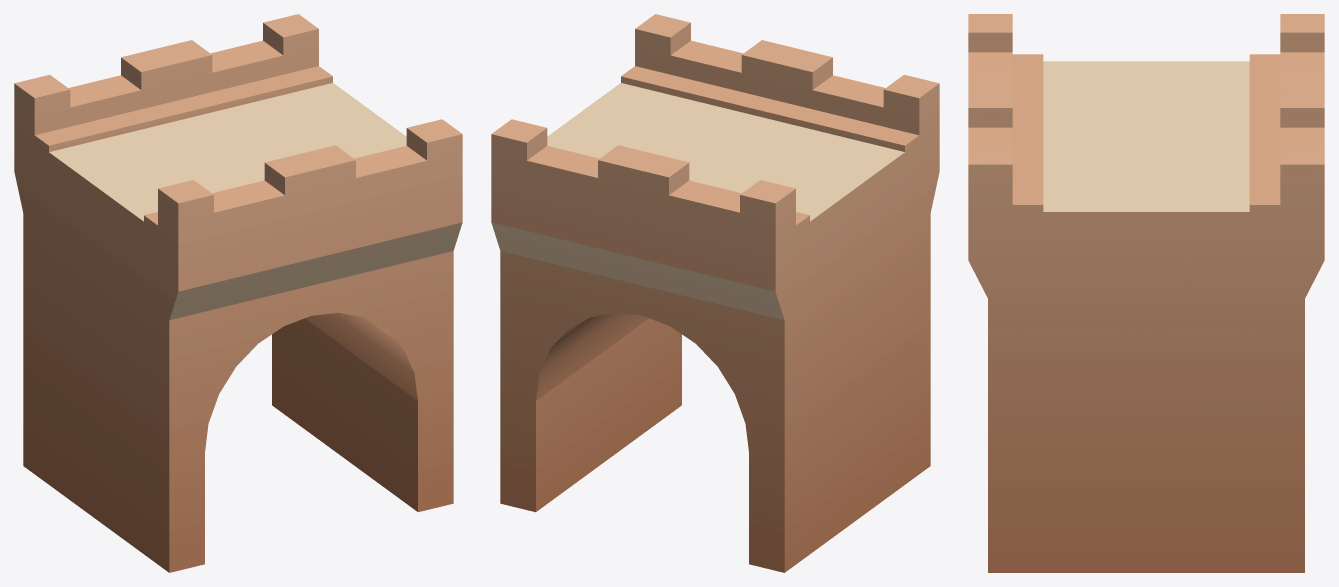
File: bridge-straight.glb
The picture shows the model from 3 angles, left to right: view 1: azimuth 30°, elevation 25°; view 2: azimuth 150°, elevation 25°; view 3: azimuth 270°, elevation 25°; orthographic projection. The views are drawn at different scales.
Parts seen in each view (by area): view 1: bridge-straight; view 2: bridge-straight; view 3: bridge-straight.
Part boxes in pixels (<box>): bridge-straight: <box>14,14,462,572</box>; bridge-straight: <box>491,14,939,572</box>; bridge-straight: <box>968,14,1324,572</box>.
Size of the model in its own units: 0.93 by 1.18 by 0.93.
1 material, 1 textured.
